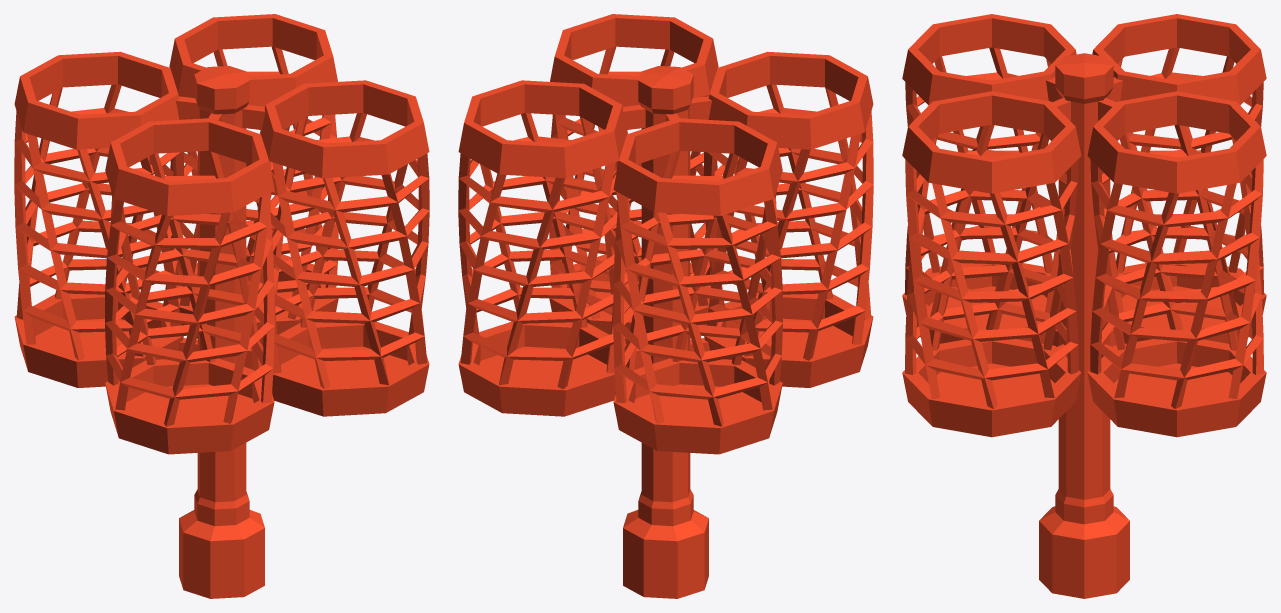
The model's file is SM_Bin_B_City.fbx.
The picture shows the model from 3 angles, left to right: view 1: azimuth 30°, elevation 25°; view 2: azimuth 150°, elevation 25°; view 3: azimuth 270°, elevation 25°; orthographic projection. The views are drawn at different scales.
Parts seen in each view (by area): view 1: SM_Bin_B_City; view 2: SM_Bin_B_City; view 3: SM_Bin_B_City.
Part boxes in pixels (x1=…): SM_Bin_B_City: x1=14, y1=14, x2=429, y2=598; SM_Bin_B_City: x1=458, y1=14, x2=873, y2=598; SM_Bin_B_City: x1=902, y1=14, x2=1266, y2=598.
Size of the model in its own units: 0.711 by 1.12 by 0.7159.
